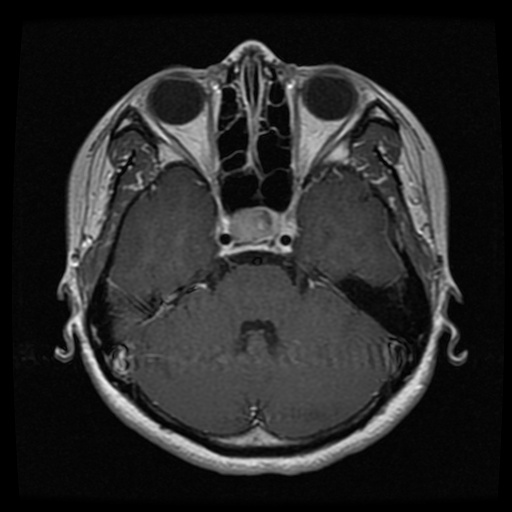pituitary: (228, 205, 278, 242)
